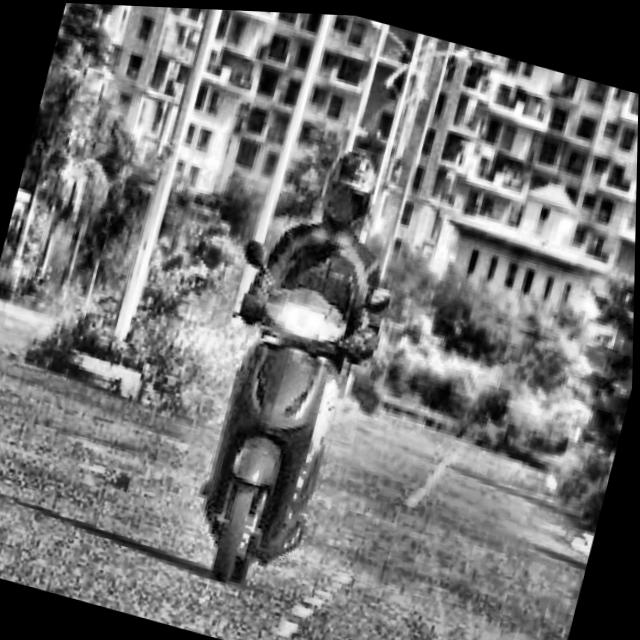motorcycle: (138, 223, 406, 606)
